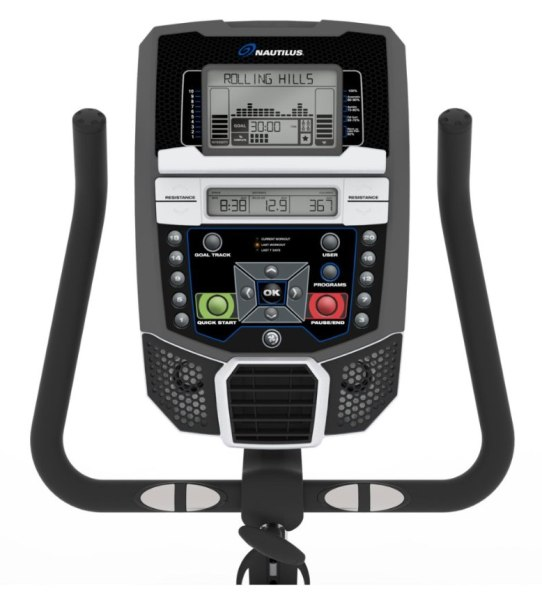gym_bike: (37, 19, 533, 587)
